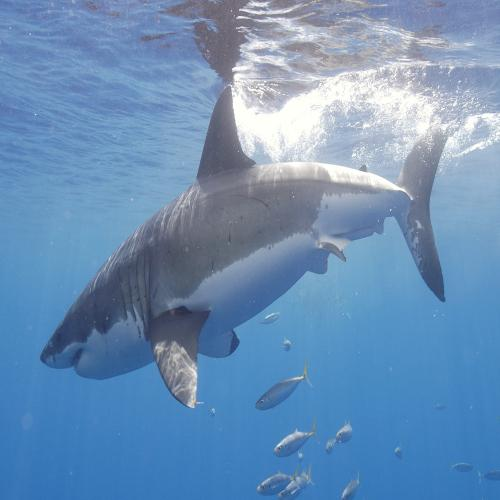shark-endangered: (36, 146, 446, 394)
